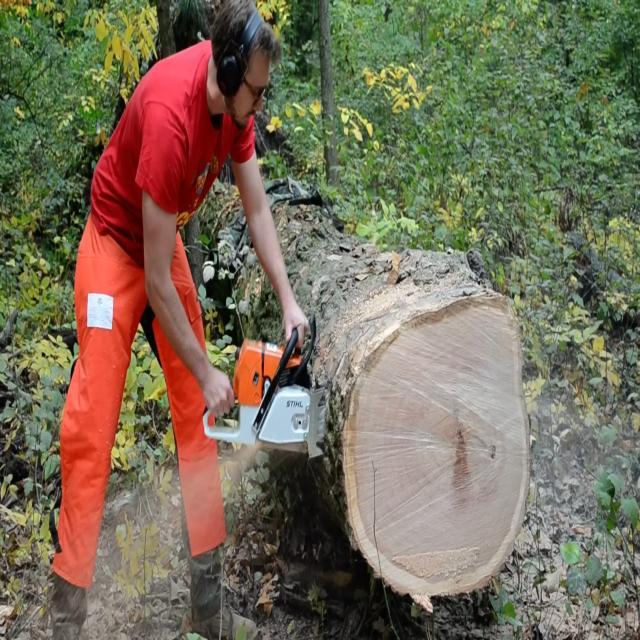Chainsaw: (194, 314, 538, 474)
